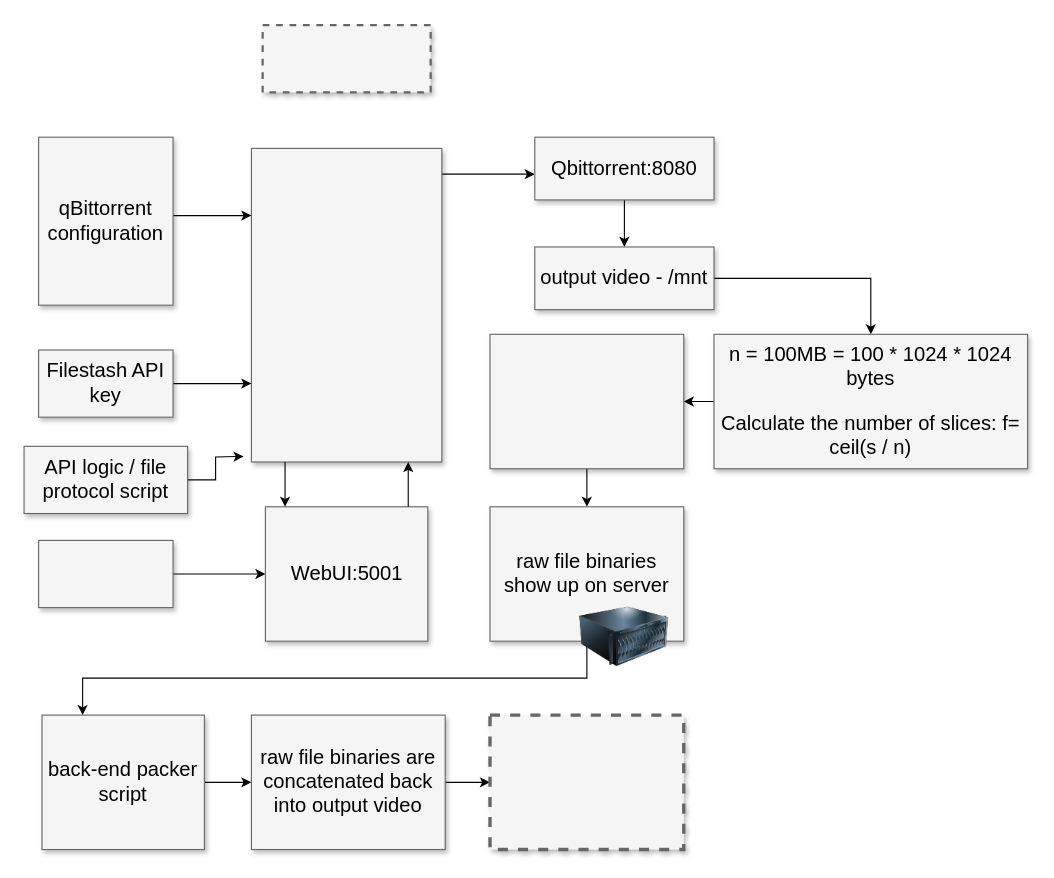
Image size: 1054x878. Some labels were removed from this diagram. Each missing label, with the centre of its shape:
"Client Upload - Flask" goes at point 106,575.
"data is sent via https POST to Filestash API" goes at point 587,403.
"docker.compose" goes at point 347,306.
"Plex" goes at point 587,783.
"protocol and control" goes at point 347,60.
